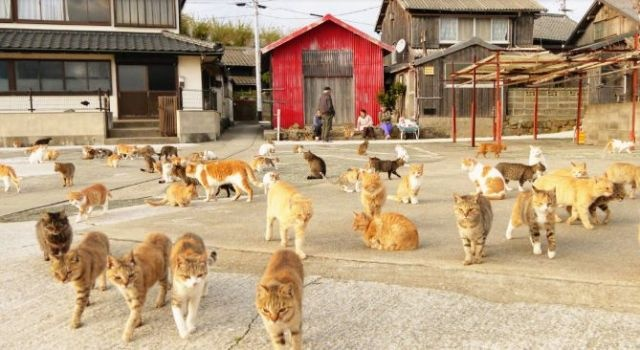cat: (104, 231, 173, 346), (49, 229, 111, 329), (167, 233, 216, 337), (257, 250, 305, 350), (534, 173, 613, 230), (505, 185, 558, 260), (266, 179, 313, 261), (186, 159, 264, 203), (452, 192, 494, 266), (351, 210, 419, 252), (567, 179, 626, 224), (459, 156, 507, 200), (36, 208, 72, 260), (69, 183, 114, 222), (387, 161, 425, 204), (496, 160, 546, 192), (145, 181, 197, 208), (319, 166, 371, 192), (604, 162, 640, 198), (360, 171, 387, 216), (369, 157, 405, 179), (302, 150, 327, 180), (549, 162, 588, 179), (1, 163, 22, 194), (603, 138, 636, 156), (53, 162, 76, 187), (527, 145, 547, 171), (476, 141, 508, 157), (251, 156, 280, 173), (24, 144, 47, 163), (263, 171, 280, 196), (115, 143, 139, 159), (156, 144, 178, 160), (257, 140, 276, 156), (395, 144, 409, 162), (108, 153, 122, 168), (358, 138, 369, 156), (43, 149, 58, 160), (34, 136, 52, 145), (292, 144, 304, 153)
